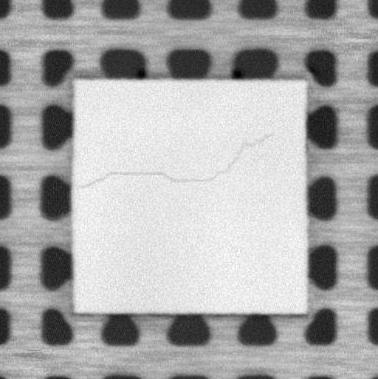DIE_CRACK: (79, 131, 279, 192)
